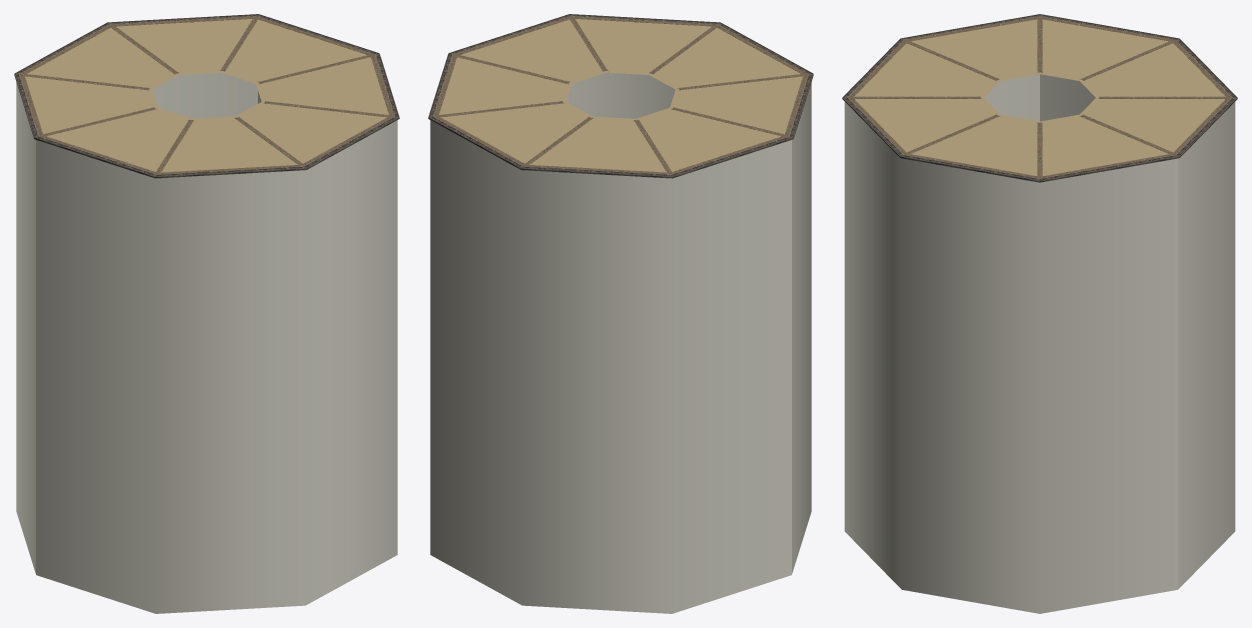
File: colo02.FBX
3 views of the same model, side by side, from view 1: azimuth 30°, elevation 25°; view 2: azimuth 150°, elevation 25°; view 3: azimuth 270°, elevation 25° (orthographic).
Parts seen in each view (by area): view 1: colo02; view 2: colo02; view 3: colo02.
Boxes of the visible parts, x1,y1,x2,y2 form: colo02: (14,14,399,613); colo02: (428,14,813,613); colo02: (842,14,1237,613).
Bounding box in the file's own units: 5448 × 6602 × 5448.
